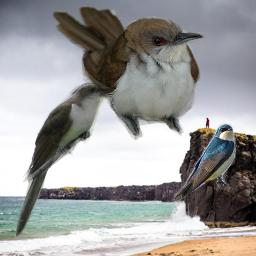Cuckoo: (52, 5, 205, 142), (11, 81, 117, 240)
Swallow: (171, 121, 238, 202)
